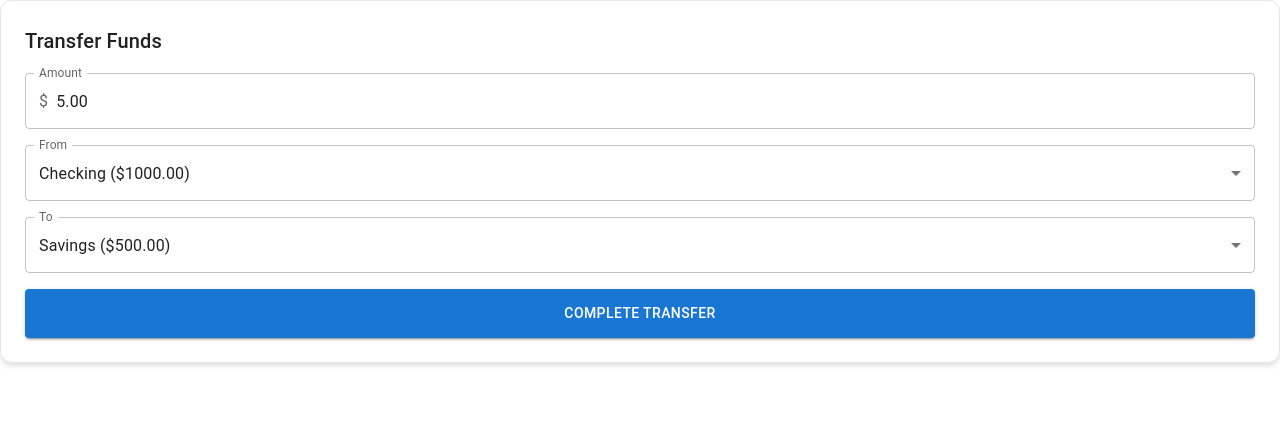
Test: Transfer Flow › validates transfer amount is positive
Replace the text in the number field labelled "Amount" with "-50" at (656, 101), box left=56, top=73, right=1255, bottom=129
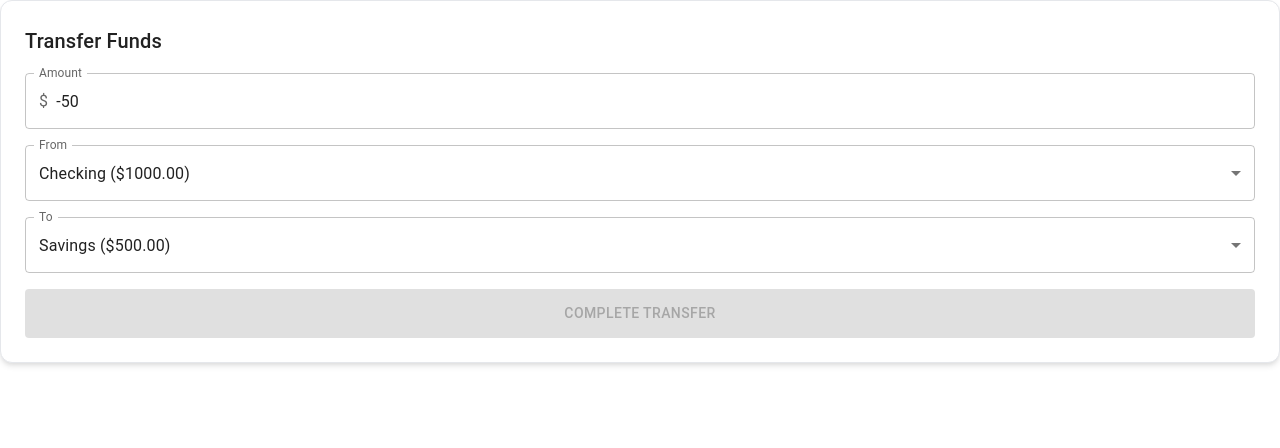
Submit the form "Complete Transfer", box left=25, top=73, right=1255, bottom=338
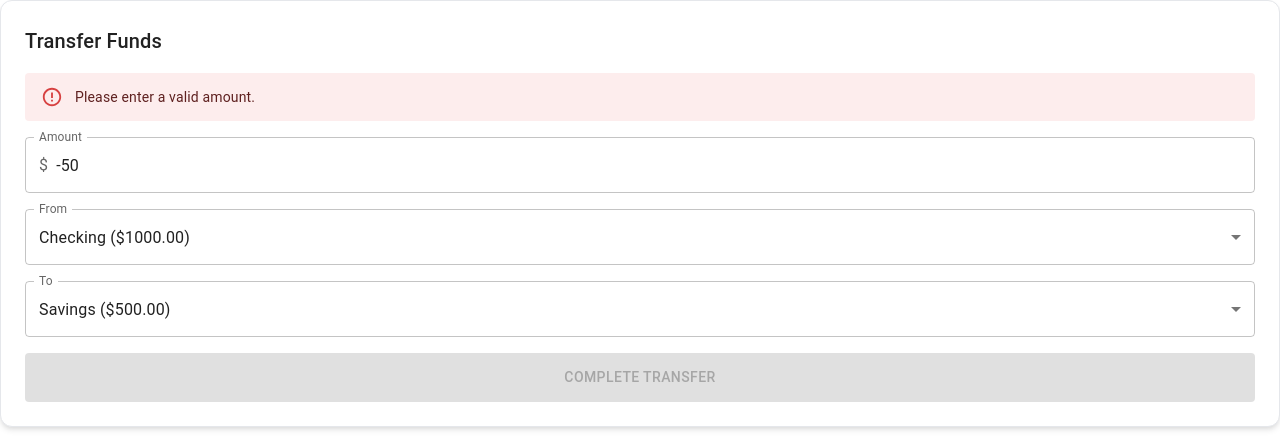
Result: the text "Please enter a valid amount." is shown at left=75, top=89, right=255, bottom=105
